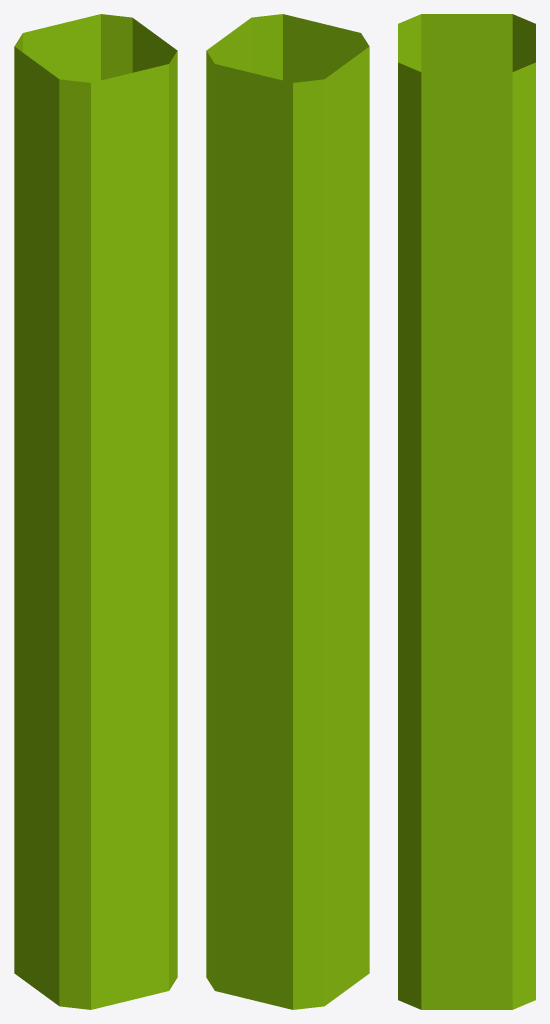
Rendered from SM_Pillar01.fbx.
The picture shows the model from 3 angles, left to right: view 1: azimuth 30°, elevation 25°; view 2: azimuth 150°, elevation 25°; view 3: azimuth 270°, elevation 25°; orthographic projection.
Parts seen in each view (by area): view 1: SM_Pillar_01; view 2: SM_Pillar_01; view 3: SM_Pillar_01.
Boxes of the visible parts, box(x1,y1,x2,y2) form: SM_Pillar_01: box(14, 14, 177, 1009); SM_Pillar_01: box(206, 14, 369, 1009); SM_Pillar_01: box(398, 14, 535, 1009).
Bounding box in the file's own units: 64 × 480 × 64.
